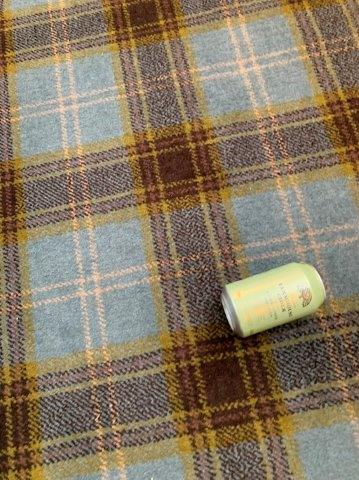kaleng: (222, 264, 325, 337)
